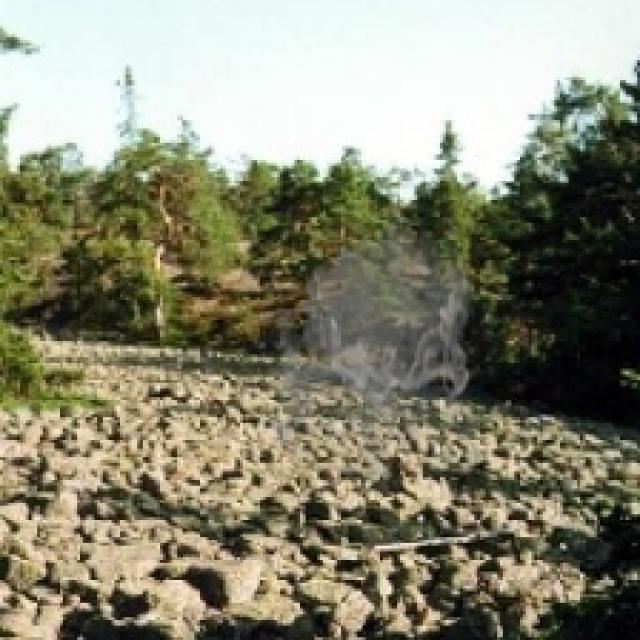smoke: (263, 203, 477, 483)
